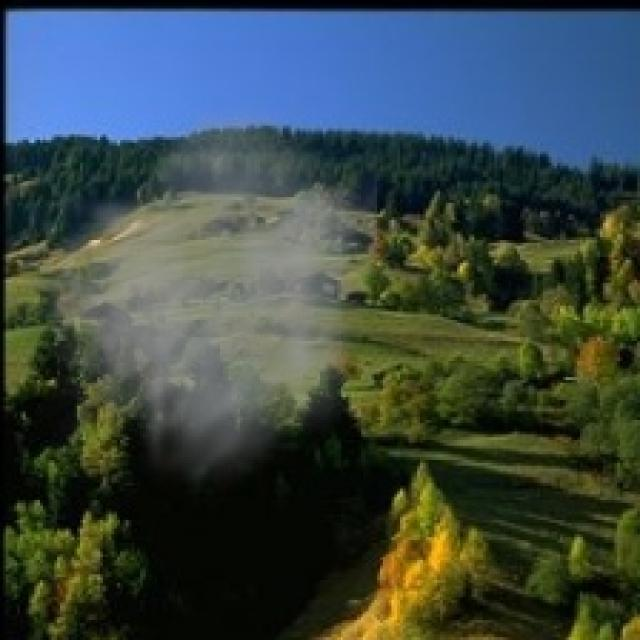Smoke: (12, 91, 377, 500)
